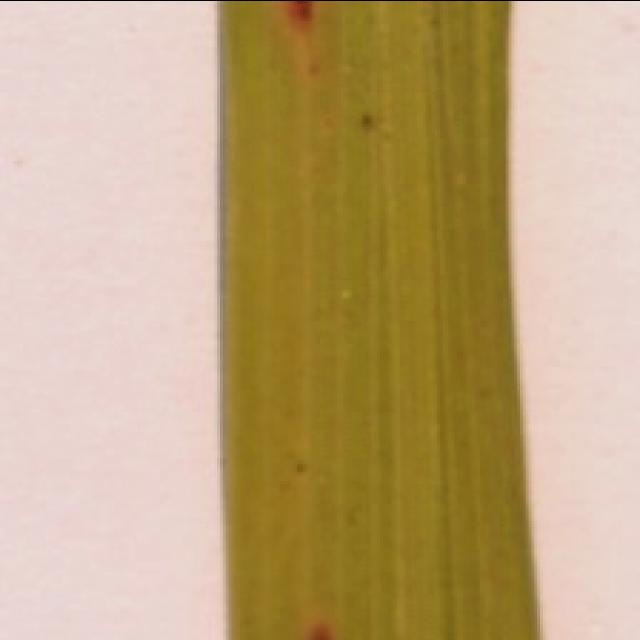Unhealthy: (275, 0, 323, 36), (300, 625, 336, 640), (353, 111, 377, 132)
